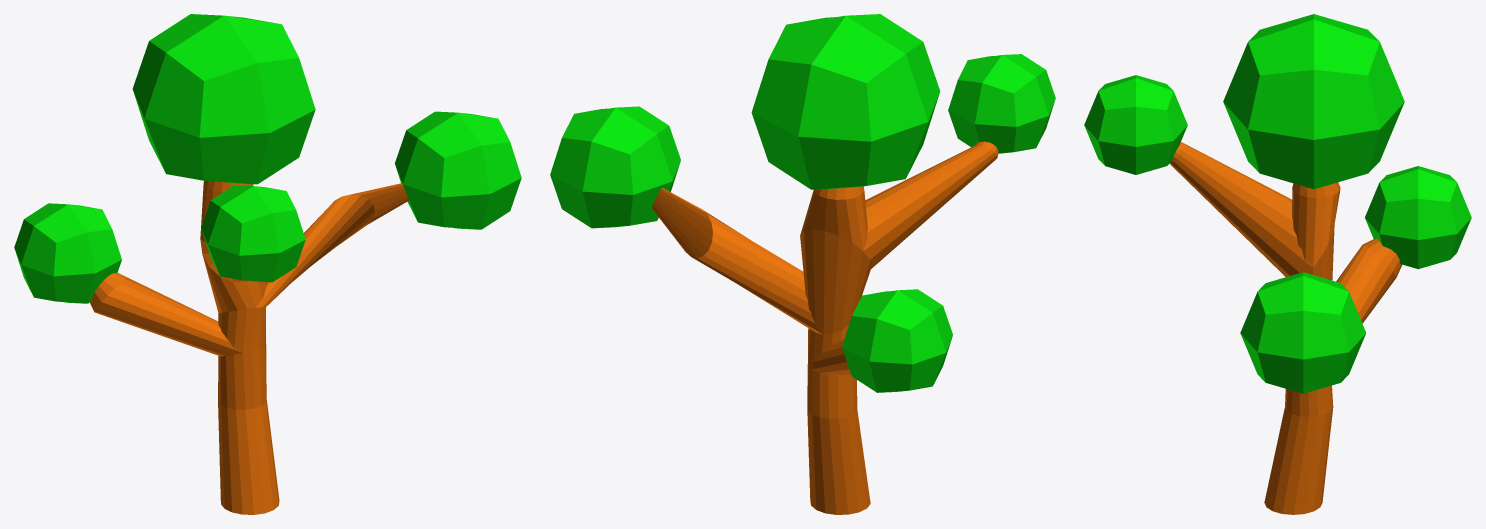
File: tree1.fbx
3 renders of one model, left to right at view 1: azimuth 30°, elevation 25°; view 2: azimuth 150°, elevation 25°; view 3: azimuth 270°, elevation 25°, orthographic. The views are drawn at different scales.
Parts seen in each view (by area): view 1: Balls, Trunk; view 2: Balls, Trunk; view 3: Balls, Trunk.
Part boxes in pixels (left/top/right/bottom): Balls: left=14, top=14, right=521, bottom=303; Trunk: left=90, top=180, right=408, bottom=514; Balls: left=550, top=14, right=1055, bottom=392; Trunk: left=652, top=141, right=998, bottom=514; Balls: left=1084, top=14, right=1471, bottom=393; Trunk: left=1169, top=142, right=1401, bottom=514.
Bounding box in the file's own units: 1696 × 1803 × 1332.
